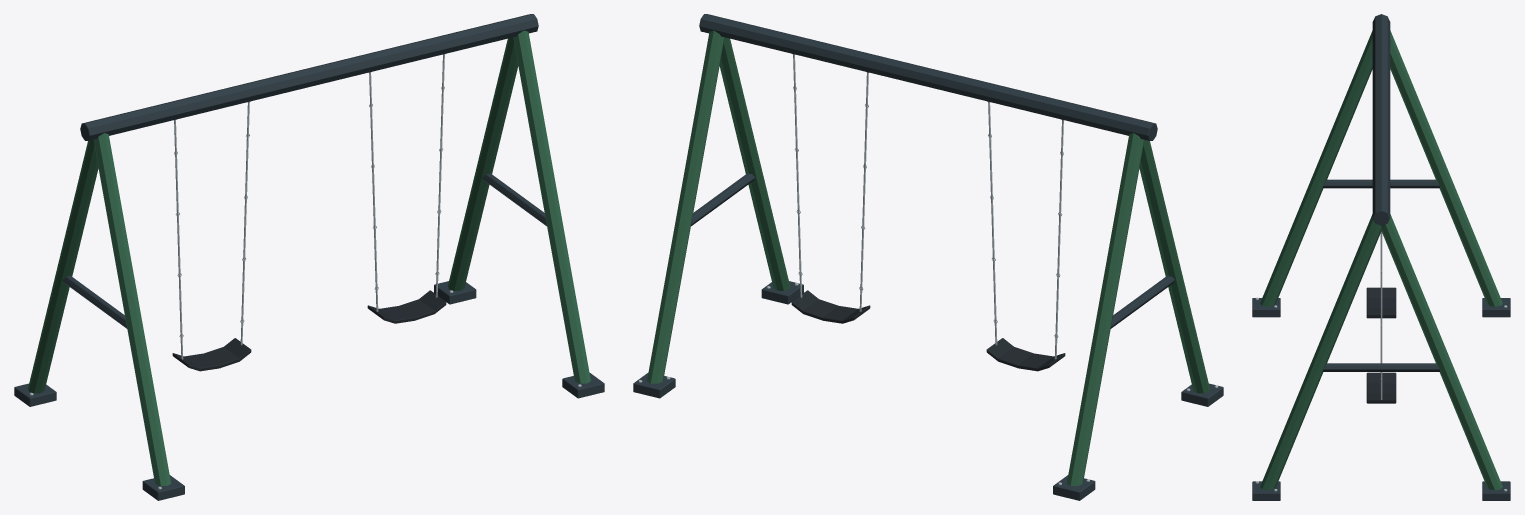
File: b09_double_swing.glb
3 views of the same model, side by side, from view 1: azimuth 30°, elevation 25°; view 2: azimuth 150°, elevation 25°; view 3: azimuth 270°, elevation 25° (orthographic). The views are drawn at different scales.
Visible parts, largest first — view 1: b09_double_swing; view 2: b09_double_swing; view 3: b09_double_swing.
Boxes of the visible parts, x1,y1,x2,y2 form: b09_double_swing: [14, 14, 604, 500]; b09_double_swing: [633, 14, 1223, 500]; b09_double_swing: [1252, 14, 1510, 500].
Size of the model in its own units: 3.64 by 2.52 by 2.02.
